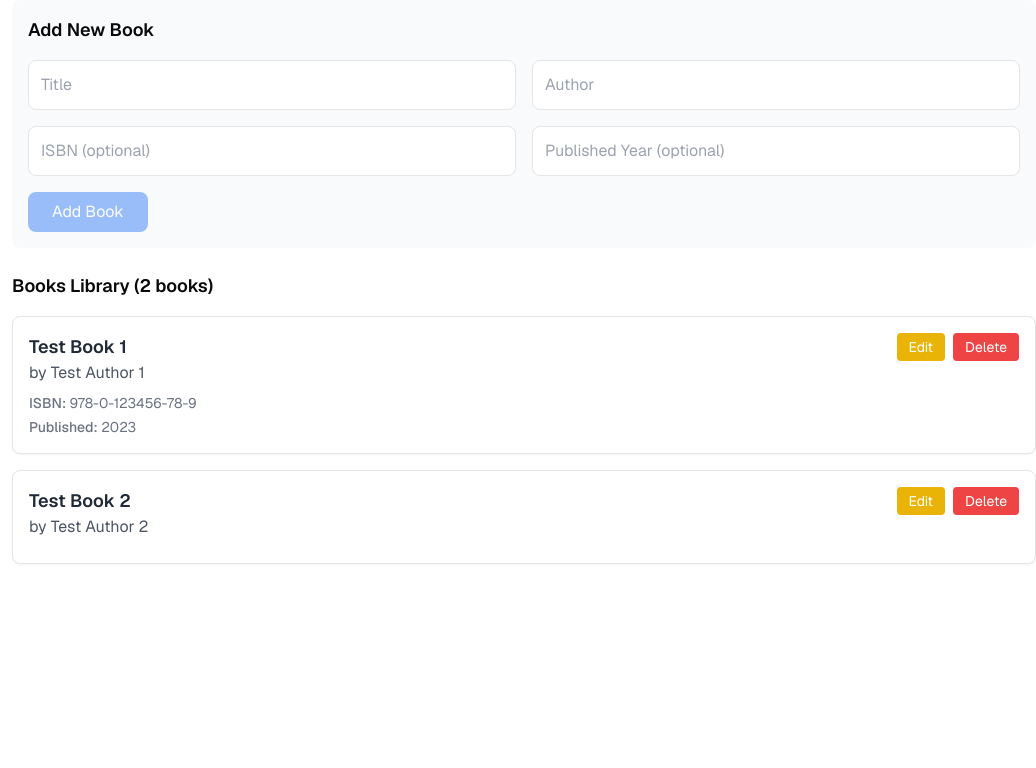
Scenario: BooksClient › cancels editing
The image size is (1036, 768).
Click the button "Edit" in the row of "Test Book 1" at (921,347), box left=896, top=333, right=945, bottom=361
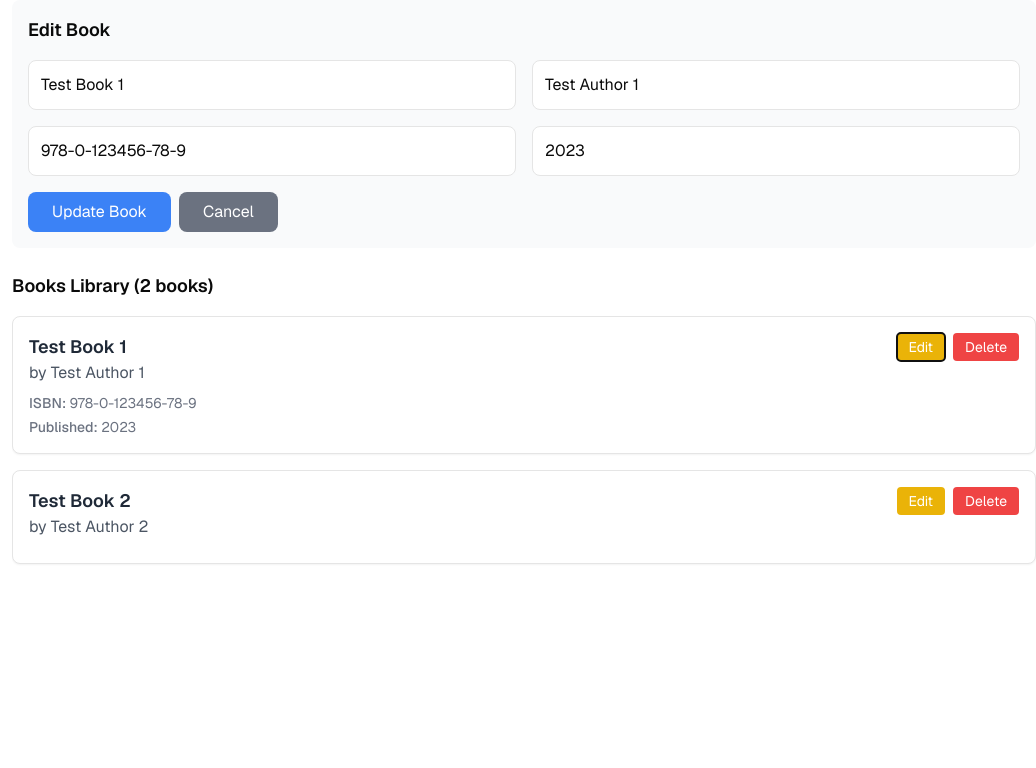
Click the button "Cancel" at (228,212), box left=179, top=192, right=278, bottom=232
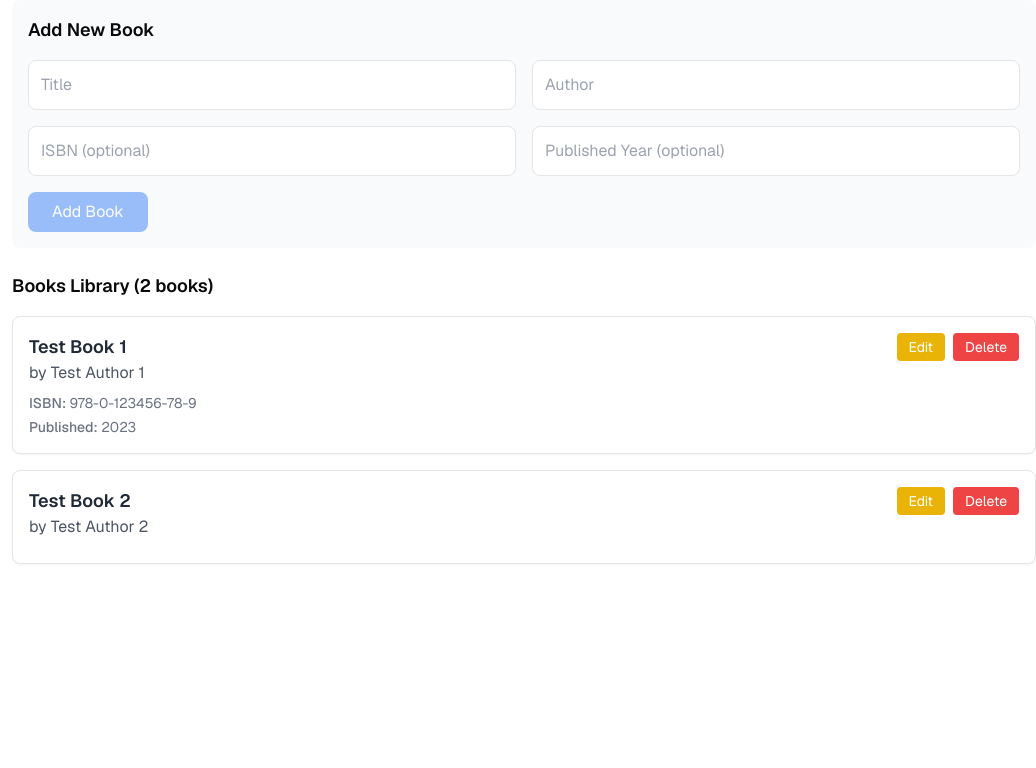
Now the field with placeholder "Title" is empty, box left=28, top=60, right=516, bottom=110
Now the button "Add Book" is shown, box left=28, top=192, right=148, bottom=232
